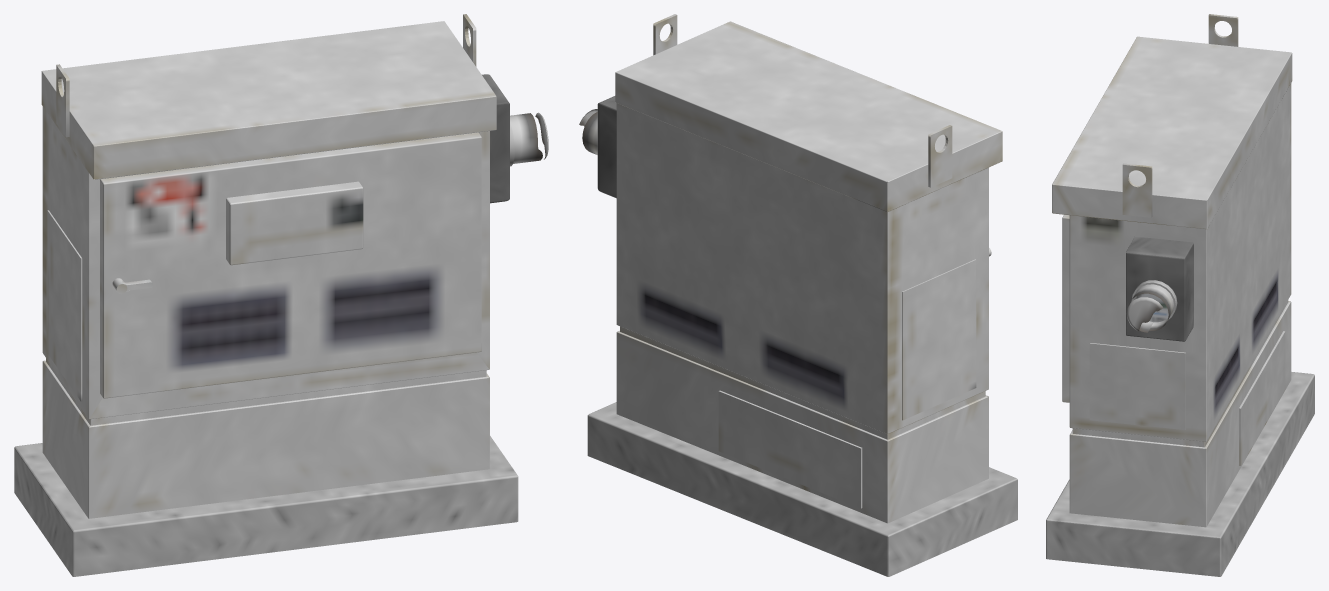
Rendered from tj_utility_box.fbx.
The picture shows the model from 3 angles, left to right: view 1: azimuth 30°, elevation 25°; view 2: azimuth 150°, elevation 25°; view 3: azimuth 270°, elevation 25°; orthographic projection. The views are drawn at different scales.
Visible parts, largest first — view 1: tj_utility_box_LOD0; view 2: tj_utility_box_LOD0; view 3: tj_utility_box_LOD0.
Boxes of the visible parts, left/top/right/bottom form: tj_utility_box_LOD0: left=14, top=14, right=548, bottom=576; tj_utility_box_LOD0: left=579, top=14, right=1017, bottom=576; tj_utility_box_LOD0: left=1046, top=14, right=1314, bottom=576.
Size of what is drawn, in the model's own units: 2.3 by 2.12 by 1.31.
Materials: 1 (1 with a texture image).
